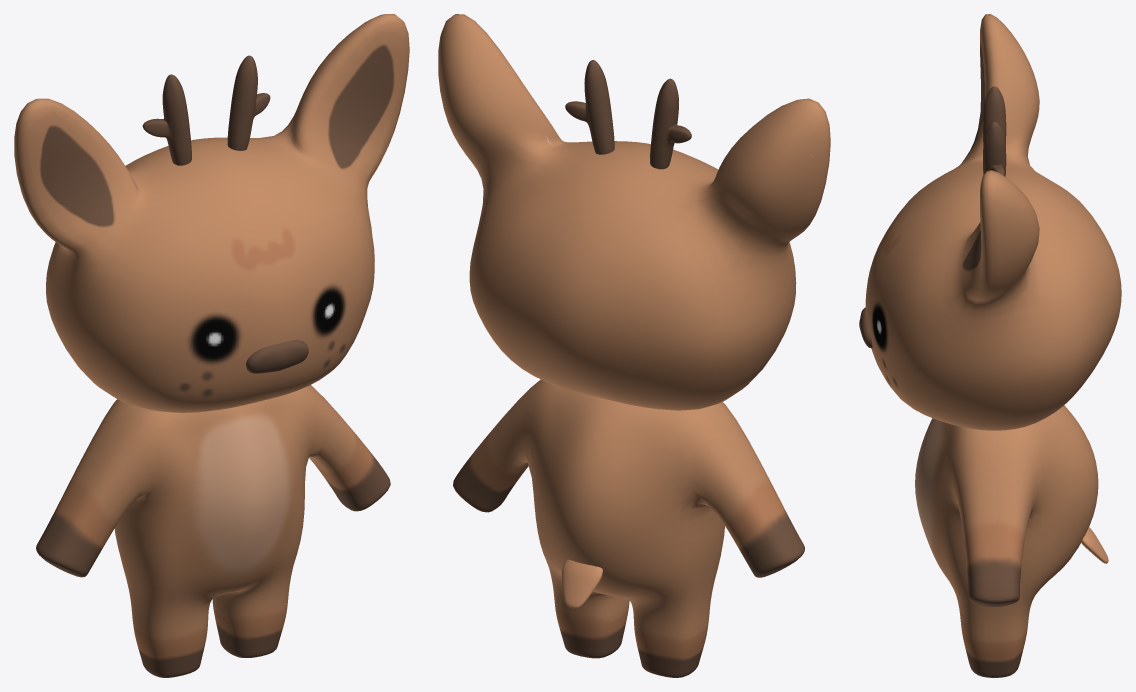
File: deer.fbx
The picture shows the model from 3 angles, left to right: view 1: azimuth 30°, elevation 25°; view 2: azimuth 150°, elevation 25°; view 3: azimuth 270°, elevation 25°; orthographic projection. The views are drawn at different scales.
Visible parts, largest first — view 1: Roundcube.020, Roundcube.023, Roundcube.021, Roundcube.022, Roundcube.024; view 2: Roundcube.020, Roundcube.023, Roundcube.022, Roundcube.021, Roundcube.025; view 3: Roundcube.020, Roundcube.023, Roundcube.022, Roundcube.021, Roundcube.025.
Part boxes in pixels (left/top/right/bottom): Roundcube.020: left=14, top=14, right=409, bottom=412; Roundcube.023: left=36, top=385, right=390, bottom=677; Roundcube.021: left=142, top=74, right=191, bottom=165; Roundcube.022: left=227, top=55, right=270, bottom=150; Roundcube.024: left=246, top=340, right=308, bottom=373; Roundcube.020: left=438, top=14, right=830, bottom=410; Roundcube.023: left=453, top=379, right=804, bottom=677; Roundcube.022: left=565, top=60, right=614, bottom=154; Roundcube.021: left=650, top=78, right=691, bottom=169; Roundcube.025: left=562, top=559, right=602, bottom=608; Roundcube.020: left=865, top=14, right=1121, bottom=430; Roundcube.023: left=915, top=405, right=1098, bottom=677; Roundcube.022: left=983, top=121, right=1006, bottom=176; Roundcube.021: left=983, top=86, right=1006, bottom=145; Roundcube.025: left=1081, top=527, right=1108, bottom=563.
Bounding box in the file's own units: 87.84 × 130 × 55.3.
3 materials, 1 textured.
